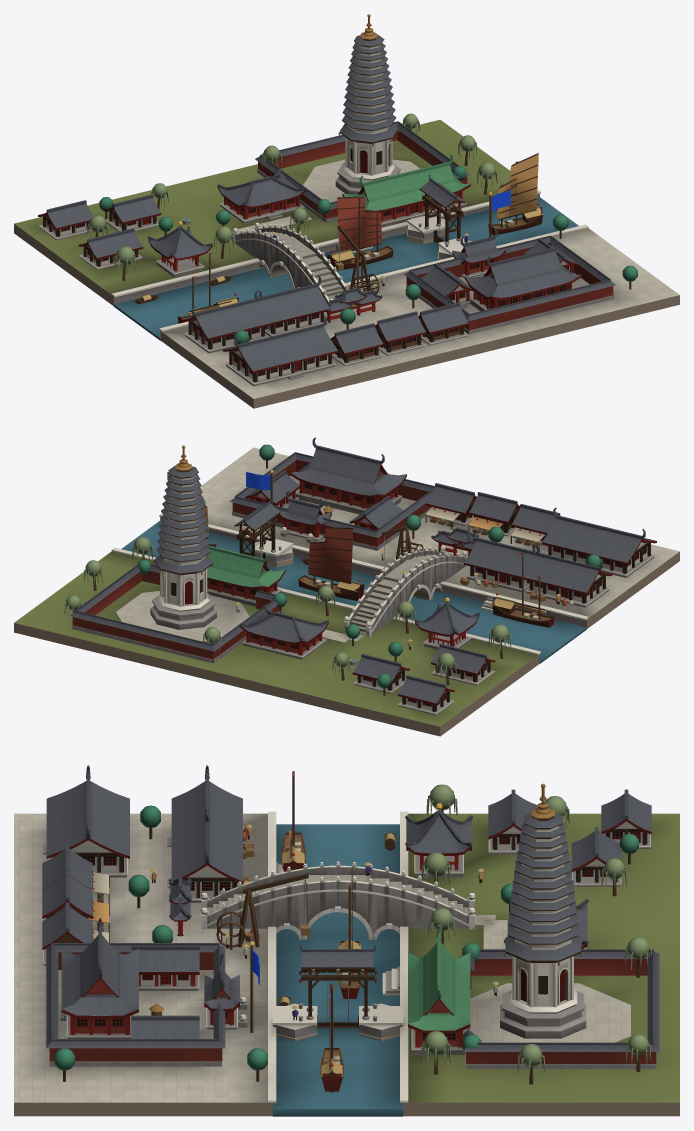
The model's file is lm_buyukkanal.glb.
The picture shows the model from 3 angles, top to bottom: view 1: azimuth 30°, elevation 25°; view 2: azimuth 150°, elevation 25°; view 3: azimuth 270°, elevation 25°; orthographic projection. The views are drawn at different scales.
Visible parts, largest first — view 1: lm_buyukkanal; view 2: lm_buyukkanal; view 3: lm_buyukkanal.
Boxes of the visible parts, x1=… form: lm_buyukkanal: x1=14, y1=14, x2=679, y2=408; lm_buyukkanal: x1=14, y1=437, x2=679, y2=736; lm_buyukkanal: x1=14, y1=765, x2=679, y2=1116.
Size of the model in its own units: 2.3 by 0.9317 by 2.24.
Materials: 1 (1 with a texture image).
